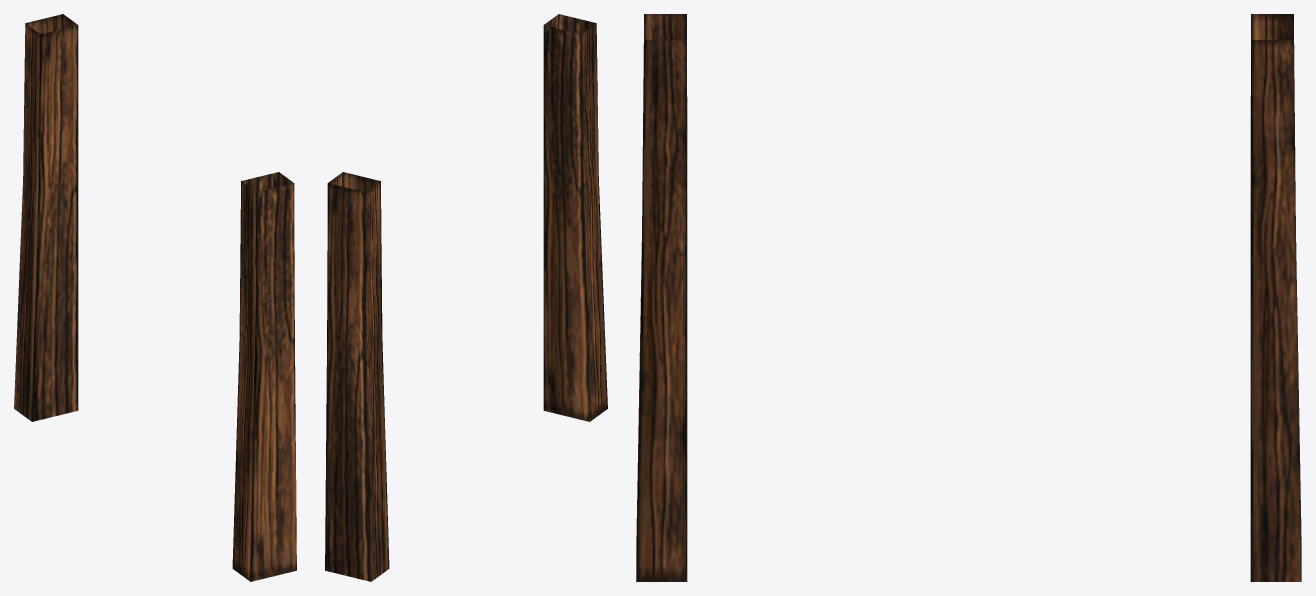
File: LAKETOWN_WAREHOUSE2_PS_WH2_DOORFRAME373646.fbx
3 views of the same model, side by side, from view 1: azimuth 30°, elevation 25°; view 2: azimuth 150°, elevation 25°; view 3: azimuth 270°, elevation 25° (orthographic). The views are drawn at different scales.
Parts seen in each view (by area): view 1: LAKETOWN_WAREHOUSE2_PS_WH2_DOORFRAME373646; view 2: LAKETOWN_WAREHOUSE2_PS_WH2_DOORFRAME373646; view 3: LAKETOWN_WAREHOUSE2_PS_WH2_DOORFRAME373646.
Boxes of the visible parts, x1,y1,x2,y2 form: LAKETOWN_WAREHOUSE2_PS_WH2_DOORFRAME373646: (14,14,296,581); LAKETOWN_WAREHOUSE2_PS_WH2_DOORFRAME373646: (325,14,607,581); LAKETOWN_WAREHOUSE2_PS_WH2_DOORFRAME373646: (636,14,1301,581).
Size of the model in its own units: 3836 by 30512 by 33950.
Materials: 1 (1 with a texture image).
